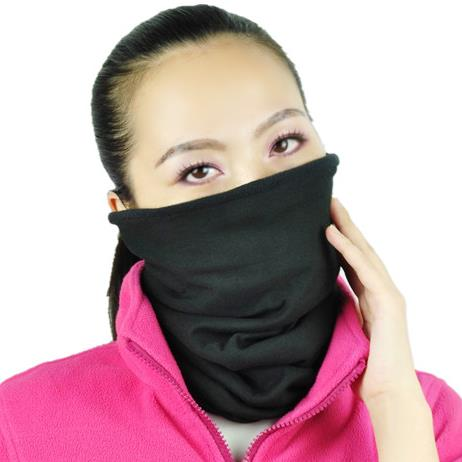face_mask: (130, 49, 328, 306)
